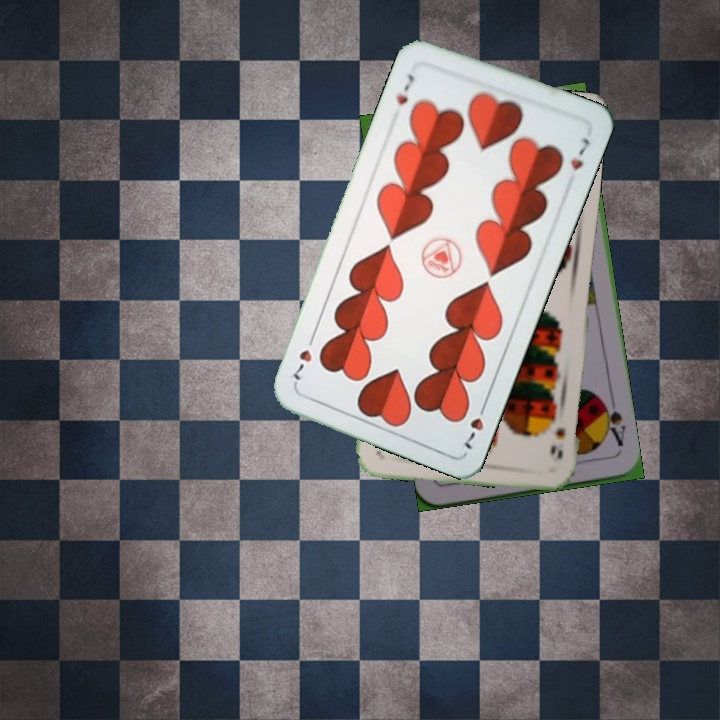H7: (460, 397, 490, 452), (392, 70, 418, 108)
S9: (547, 423, 568, 461)
SA: (598, 396, 628, 449)
